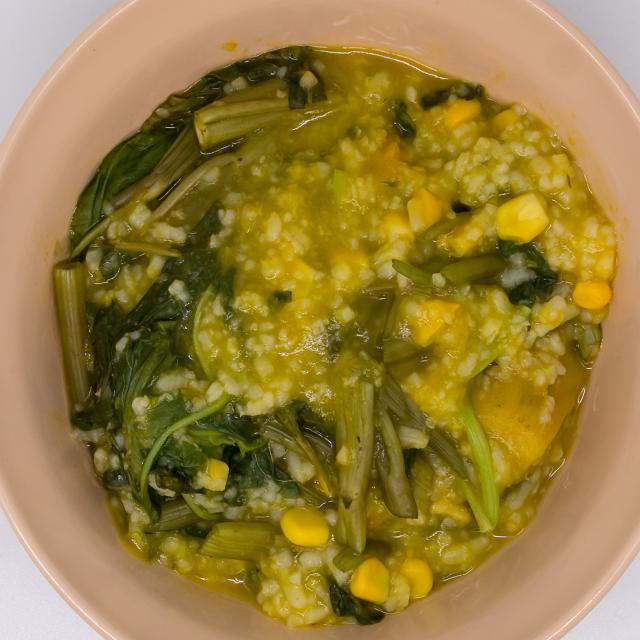Bubur-Manado: (39, 27, 626, 625)
